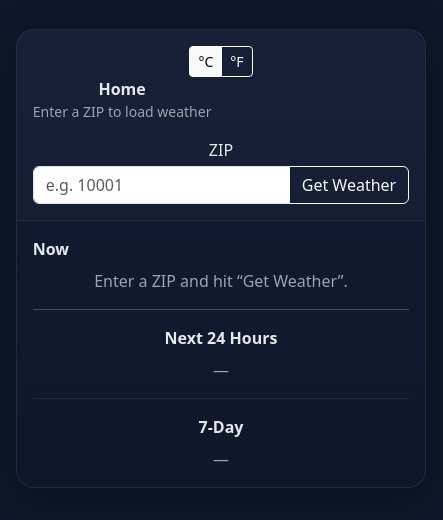
Test: validates ZIP format
This screenshot has width=443, height=520.
Type "abc" into the field labelled "ZIP". click: (161, 184)
box: [33, 166, 290, 204]
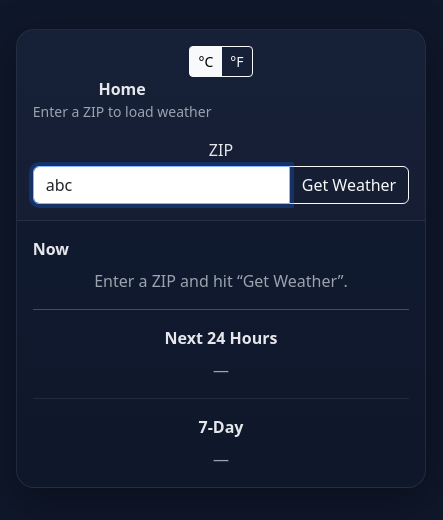
Click the button "Get Weather". click: (349, 184)
box: [289, 166, 409, 204]
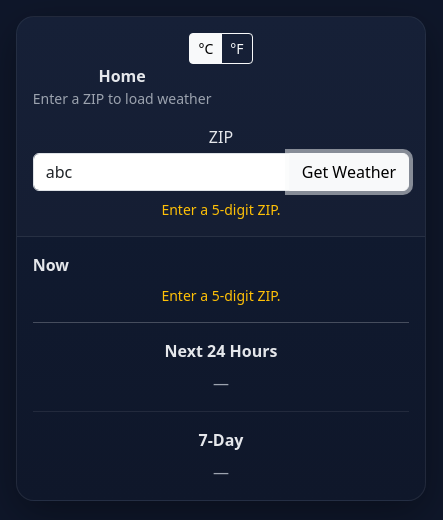
Check: the message shows "5-digit ZIP", box [161, 200, 280, 218]
